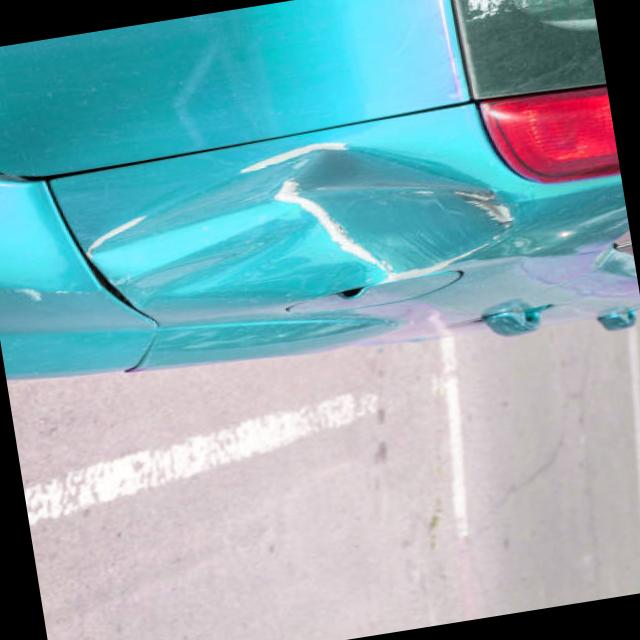Dent: (82, 136, 512, 322)
Scratch: (274, 179, 392, 282), (384, 242, 498, 283), (411, 185, 513, 230), (239, 143, 347, 173), (456, 0, 559, 28), (77, 216, 146, 251), (10, 280, 75, 301)
